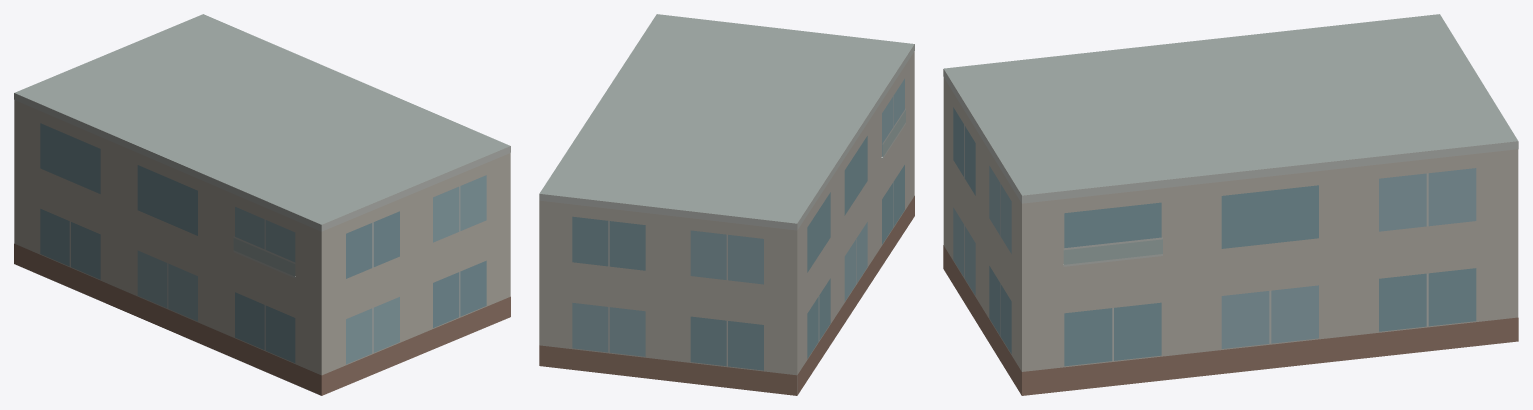
Rendered from survey-upis-32914815.glb.
The picture shows the model from 3 angles, left to right: view 1: azimuth 30°, elevation 25°; view 2: azimuth 150°, elevation 25°; view 3: azimuth 270°, elevation 25°; orthographic projection. The views are drawn at different scales.
Visible parts, largest first — view 1: survey-upis-32914815.tmp; view 2: survey-upis-32914815.tmp; view 3: survey-upis-32914815.tmp.
Part boxes in pixels (x1,y1,x2,y2): survey-upis-32914815.tmp: (14,14,510,395); survey-upis-32914815.tmp: (539,14,914,395); survey-upis-32914815.tmp: (943,14,1518,395).
Bounding box in the file's own units: 11.88 × 6.1 × 15.89.
